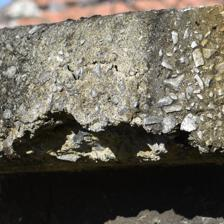Crack: (50, 41, 124, 179), (98, 174, 131, 224)
